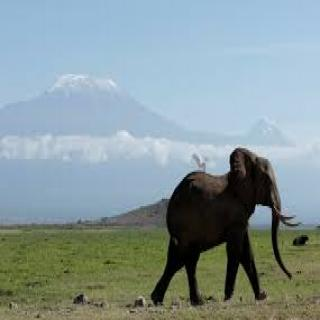Elephant: (150, 141, 304, 320)
